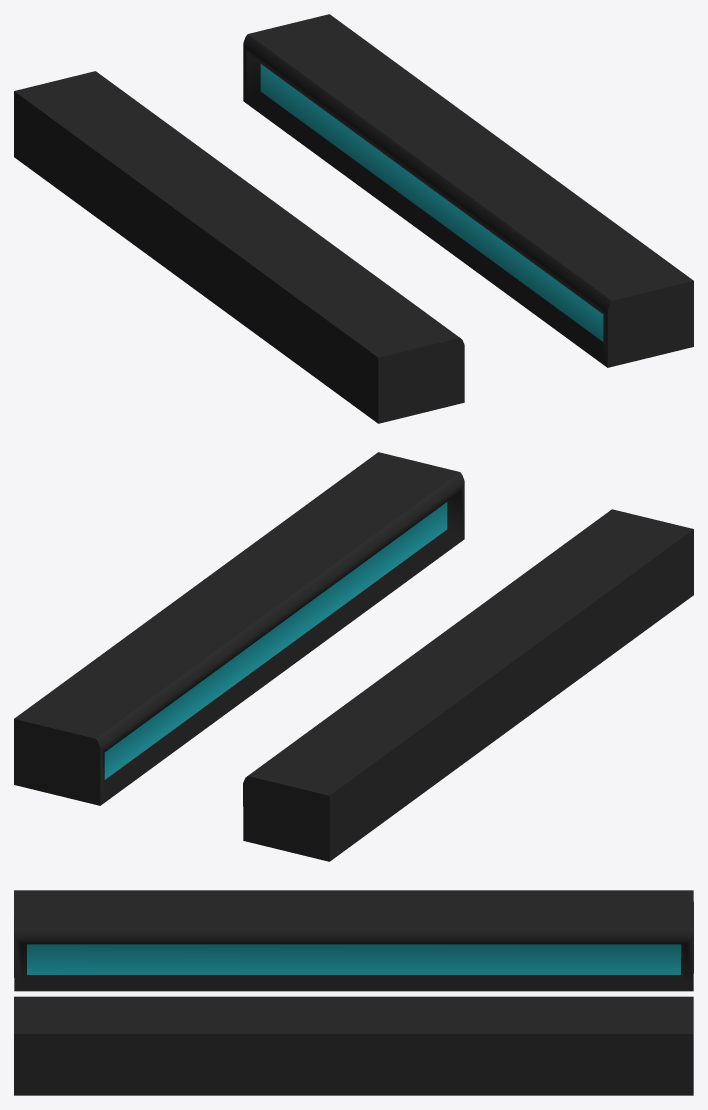
Rendered from Platform_split.fbx.
3 renders of one model, top to bottom at view 1: azimuth 30°, elevation 25°; view 2: azimuth 150°, elevation 25°; view 3: azimuth 270°, elevation 25°, orthographic. The views are drawn at different scales.
Parts seen in each view (by area): view 1: polySurface10; view 2: polySurface10; view 3: polySurface10.
Part boxes in pixels (x1,y1,x2,y2): polySurface10: (14, 14, 693, 423); polySurface10: (14, 452, 693, 861); polySurface10: (14, 890, 693, 1095).
Bounding box in the file's own units: 500 × 100 × 1000.
